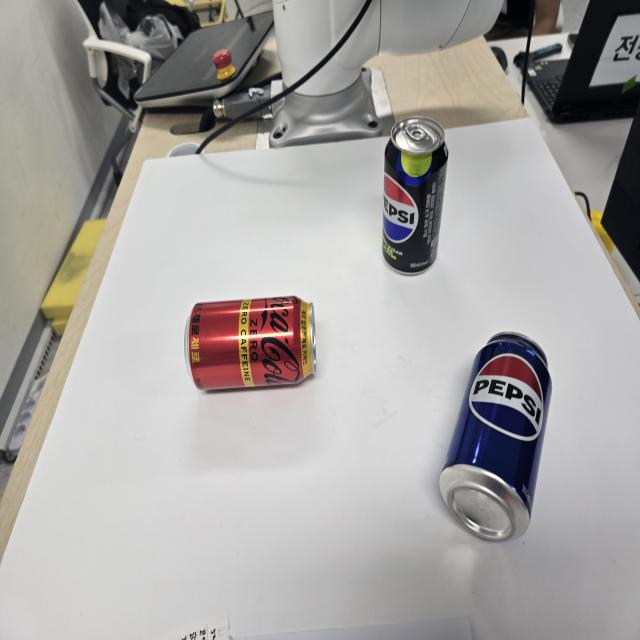can_coke_decaf: (184, 296, 317, 390)
can_pepsi: (440, 331, 553, 542)
can_pepsi_zero: (382, 117, 449, 279)
